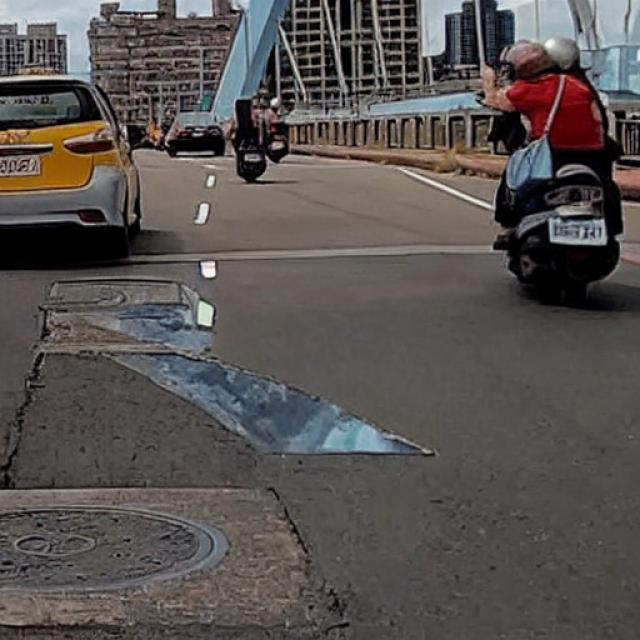puddle: (57, 277, 430, 455)
